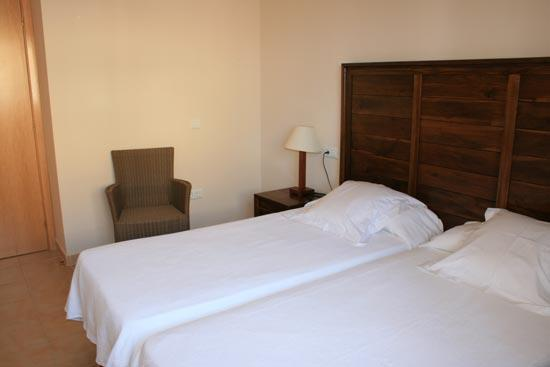Cama: (142, 215, 542, 359), (79, 189, 425, 330)
